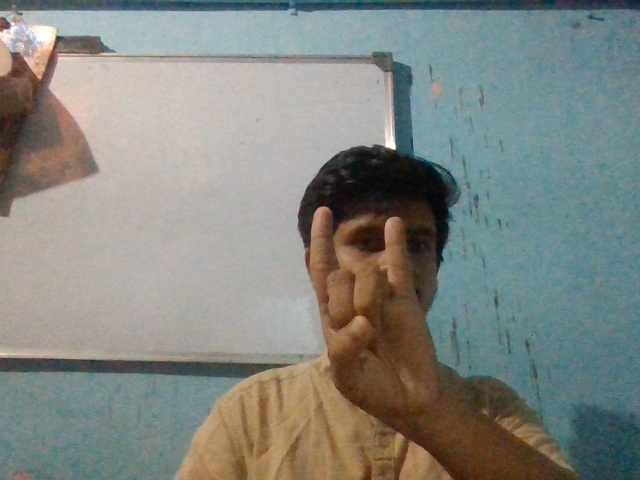Apana: (298, 191, 449, 417)
